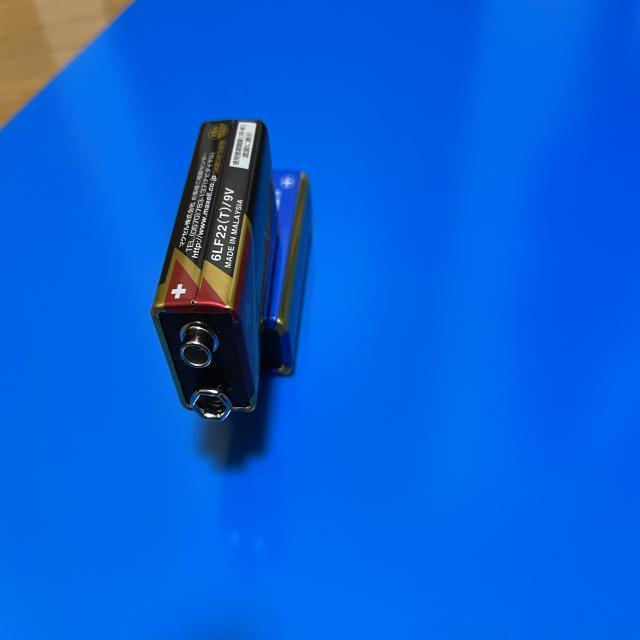9V: (149, 119, 281, 419), (258, 168, 314, 376)
